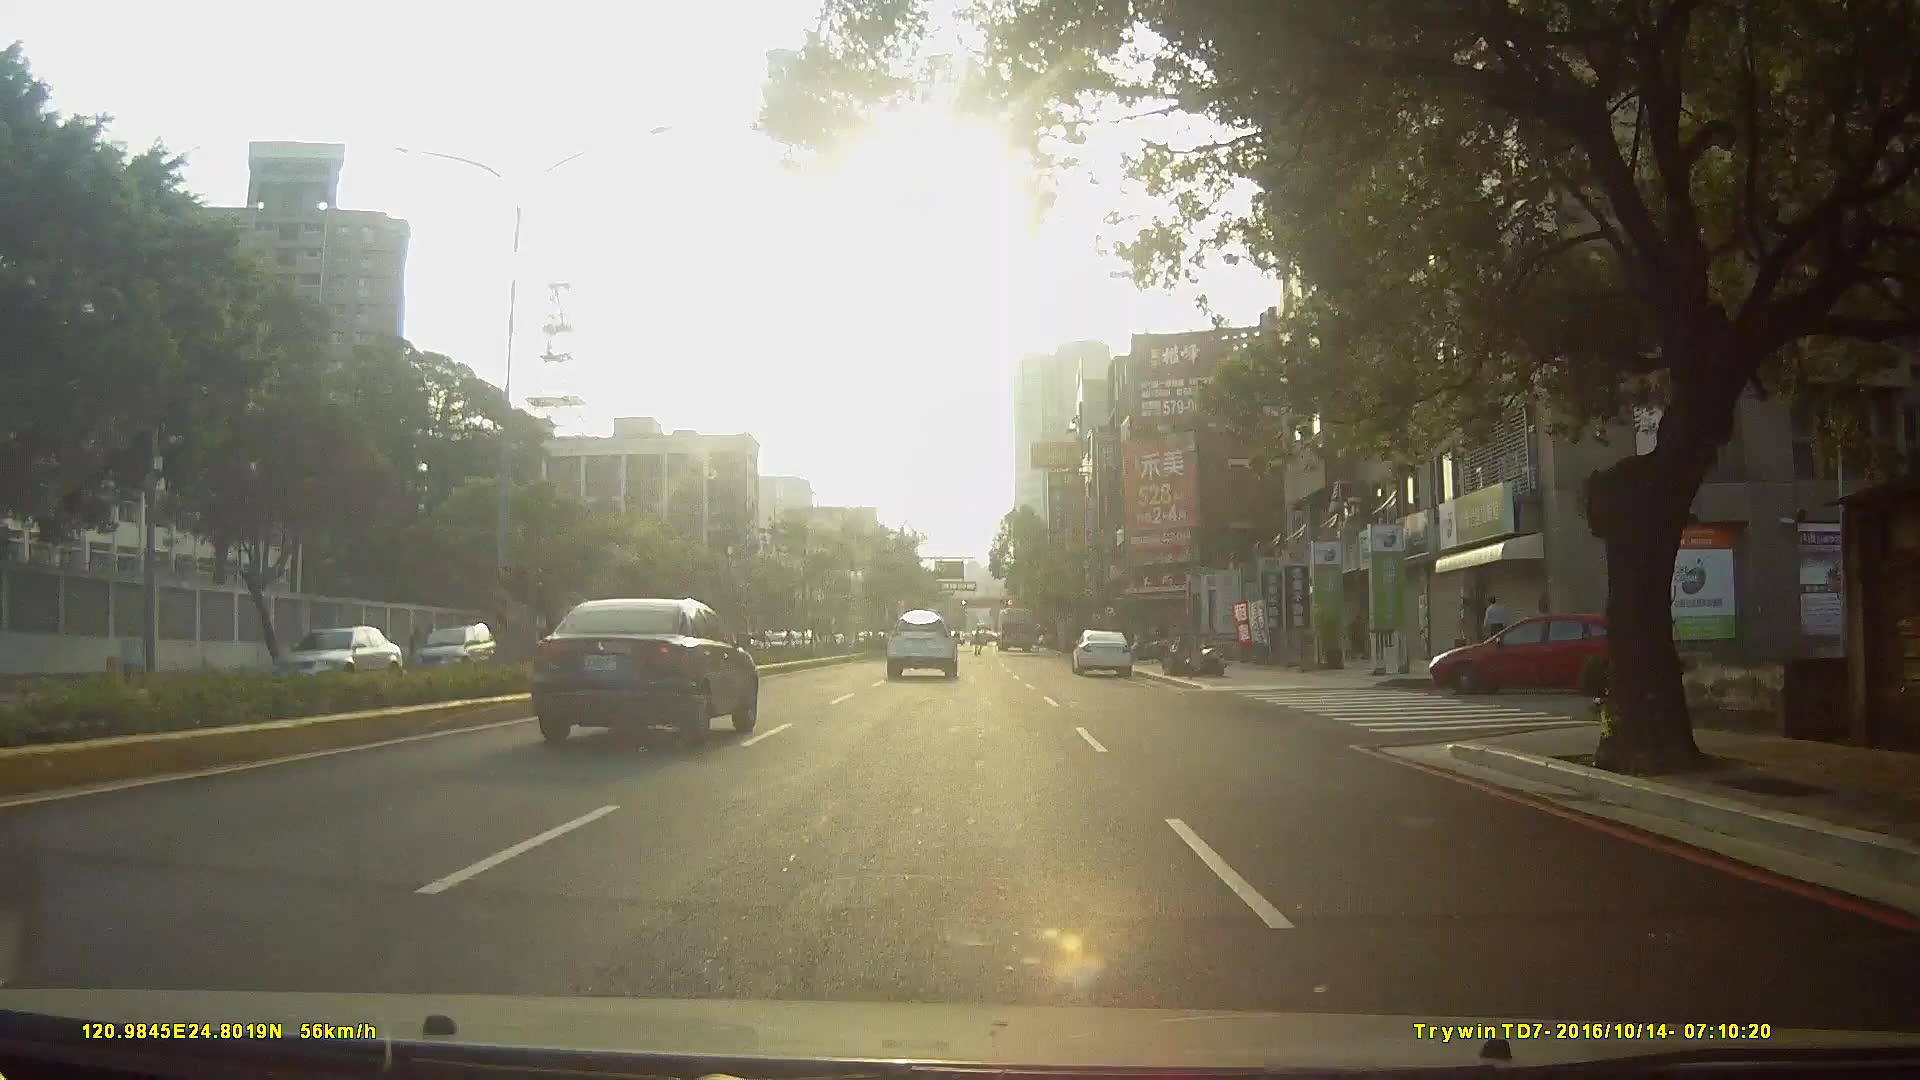pedestrian: (1482, 595, 1507, 665)
vehicle: (536, 593, 762, 747), (1421, 610, 1655, 706), (270, 619, 412, 694), (411, 611, 508, 669), (885, 608, 960, 677), (1069, 625, 1135, 674), (993, 601, 1037, 649)
